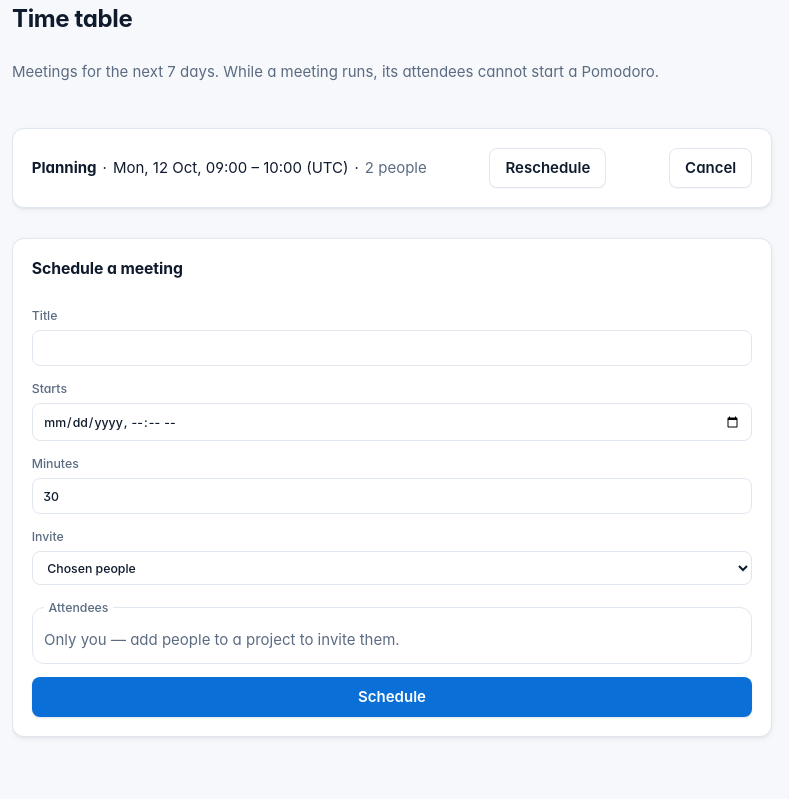
Time table (KYB-S42) › shows times in the browser's zone, remembers it, and lets the organizer reschedule
Click the button with aria-label "Reschedule Planning" at (548, 168), box [490,148,606,188]
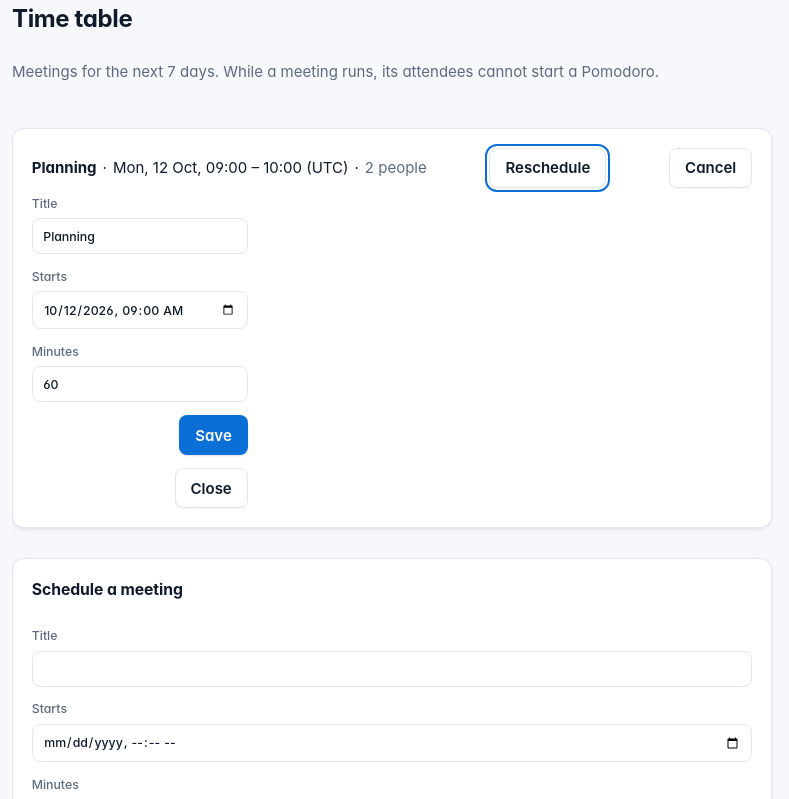
Now the number field labelled "Minutes" below "Planning" holds "60", box [32,366,248,402]
Replace the text in the field labelled "Title" below "Planning" with "Planning v2" at (140, 236), box [32,218,248,254]
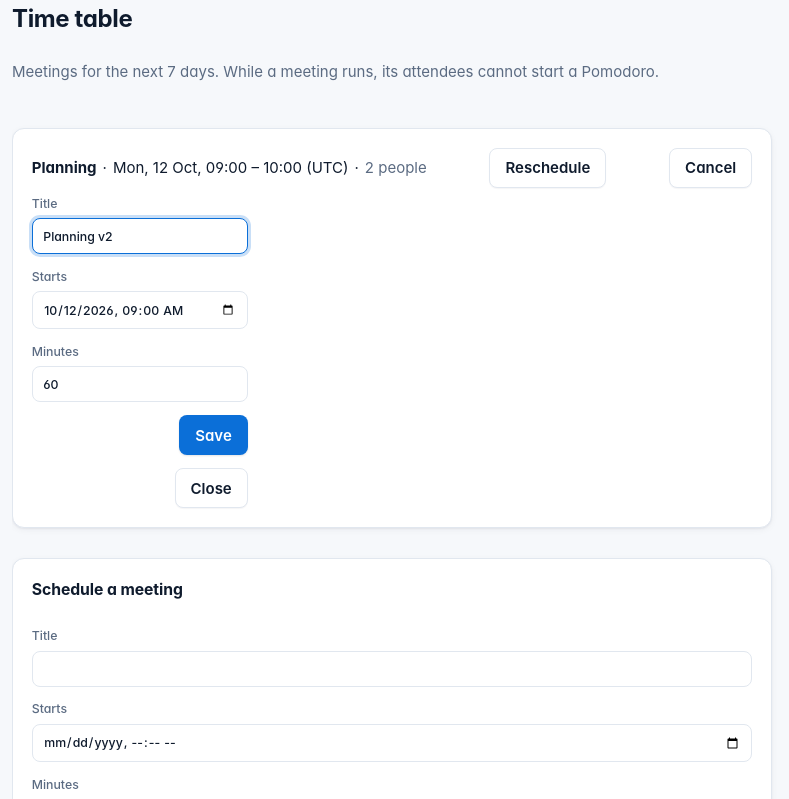
Replace the text in the field labelled "Starts" below "Planning" with "2026-10-14T11:00" at (140, 310), box [32,291,248,329]
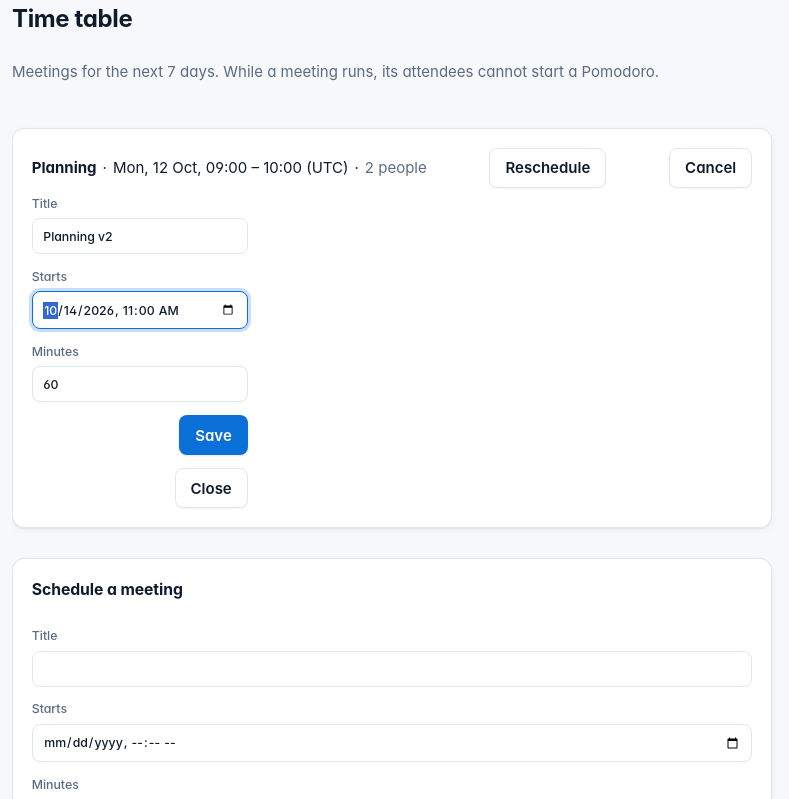
Click the button "Save" at (213, 435), box [179,415,248,456]
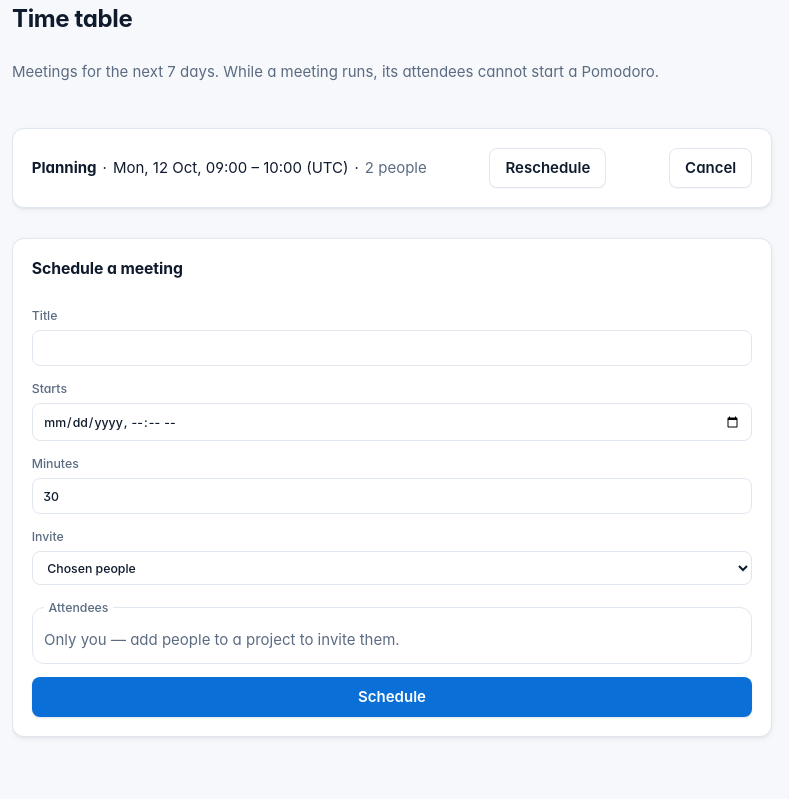
Now the form "Title Starts Minutes Save Close" is gone
